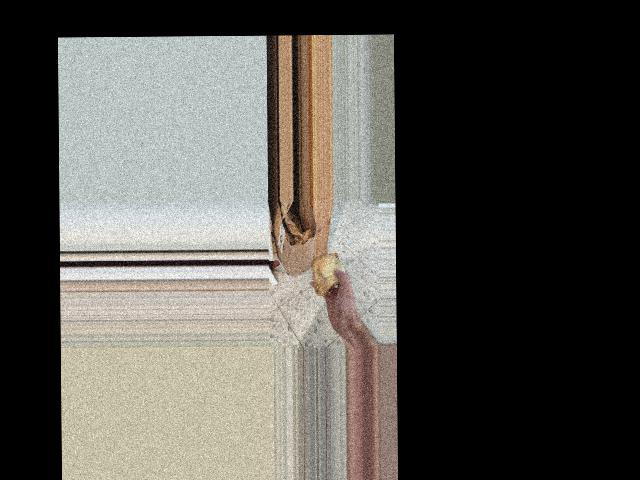onion: (309, 250, 346, 299)
